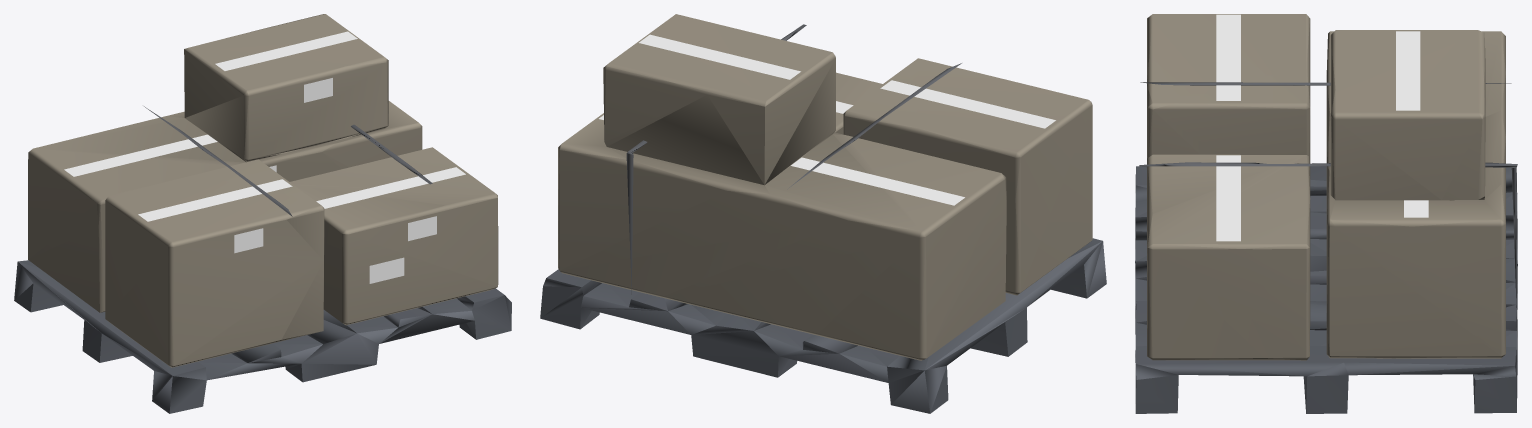
The model's file is palette_b.glb.
The picture shows the model from 3 angles, left to right: view 1: azimuth 30°, elevation 25°; view 2: azimuth 150°, elevation 25°; view 3: azimuth 270°, elevation 25°; orthographic projection. The views are drawn at different scales.
Visible parts, largest first — view 1: palette_b, palette_b_decal; view 2: palette_b, palette_b_decal; view 3: palette_b, palette_b_decal.
Part boxes in pixels (box(x1,y1,x2,y2)): palette_b: box(14, 14, 511, 413); palette_b_decal: box(64, 31, 465, 283); palette_b: box(540, 14, 1106, 413); palette_b_decal: box(599, 34, 1055, 205); palette_b: box(1135, 14, 1517, 413); palette_b_decal: box(1216, 14, 1428, 241).
Bounding box in the file's own units: 1.18 × 0.7482 × 0.9379.
